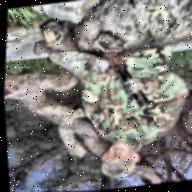boar: (27, 0, 192, 92)
